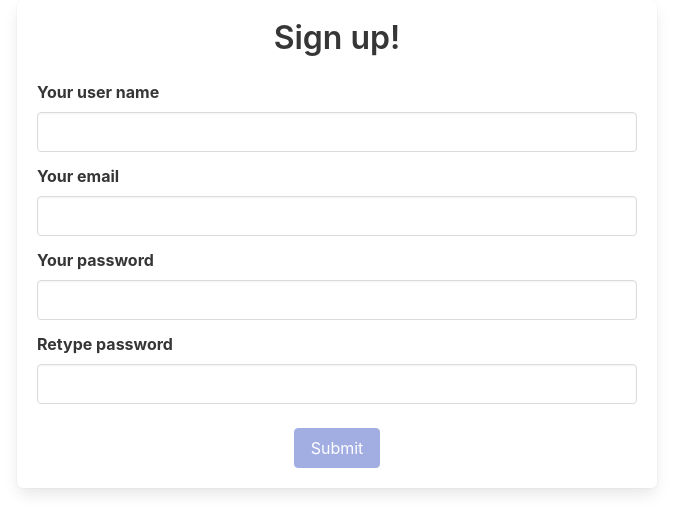
Scenario: Signup page › on interaction level › enables 'Signup' button if both passwords are valid
This screenshot has width=675, height=513.
Type "p4ssword" into the password field labelled "Your password" at (337, 300), box left=37, top=280, right=637, bottom=320
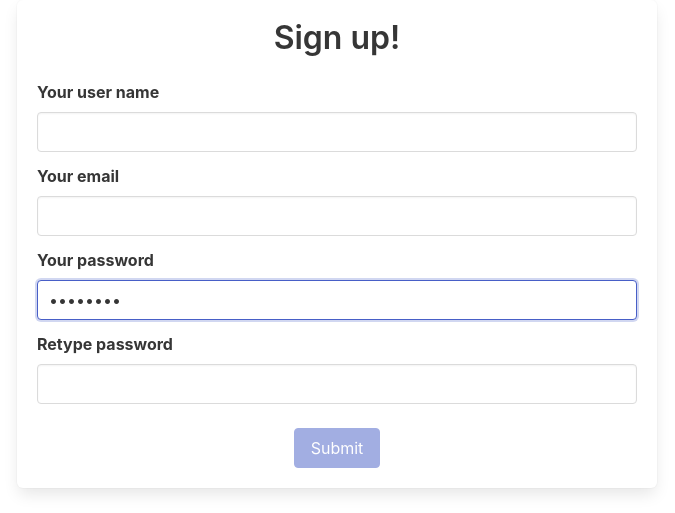
Type "p4ssword" into the password field labelled "Retype password" at (337, 384), box left=37, top=364, right=637, bottom=404
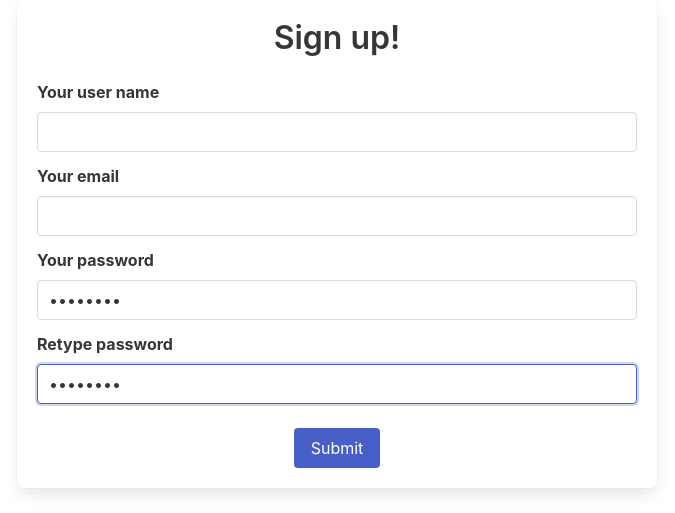
Expected: the button "Submit" is enabled, left=294, top=428, right=380, bottom=468
